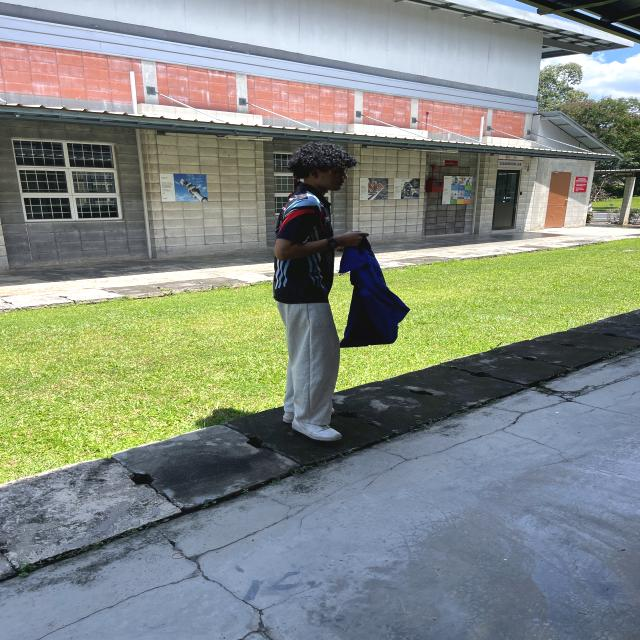person_without_labcoat: (273, 143, 410, 442)
